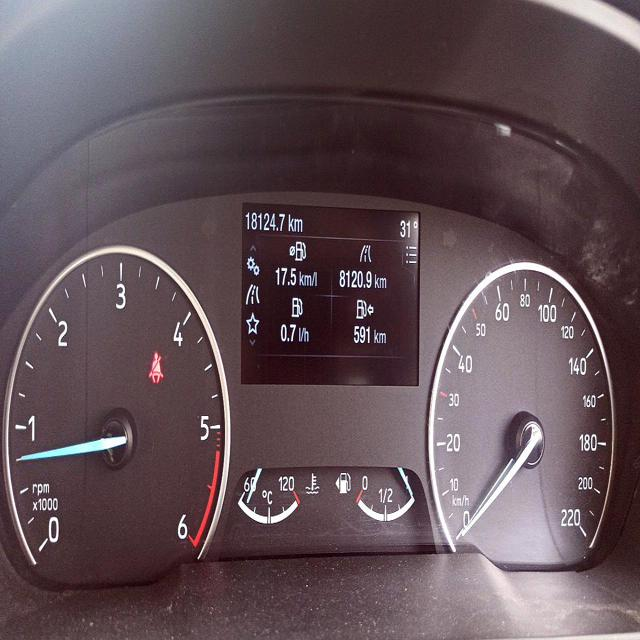odometer: (244, 207, 305, 237)
